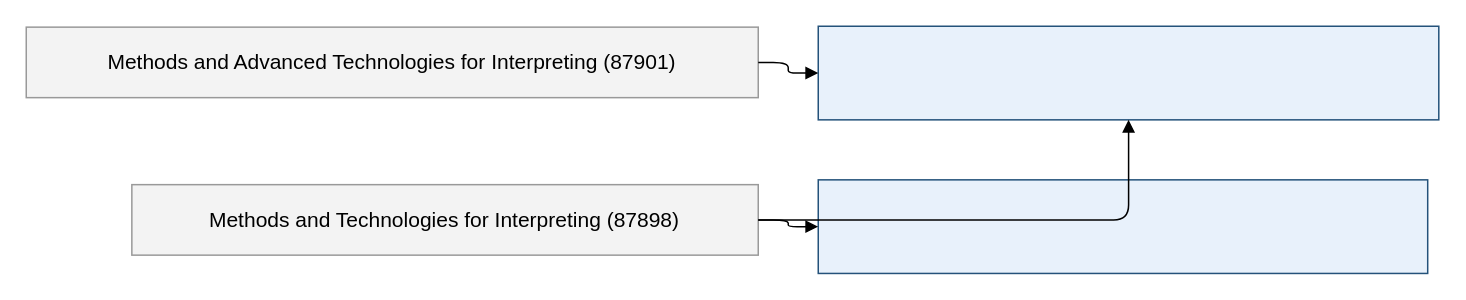
Image size: 1466x300. Some labels were removed from this diagram. The shapes that lost their labels are listed below. From the top down, each one's centre as x and y in pixels, then its label:
At [1128,72]: "Terminology Extraction and Database Management 2 ECTS".
At [1122,225]: "Terminology Foundations and Specialised Corpora 2 ECTS".
